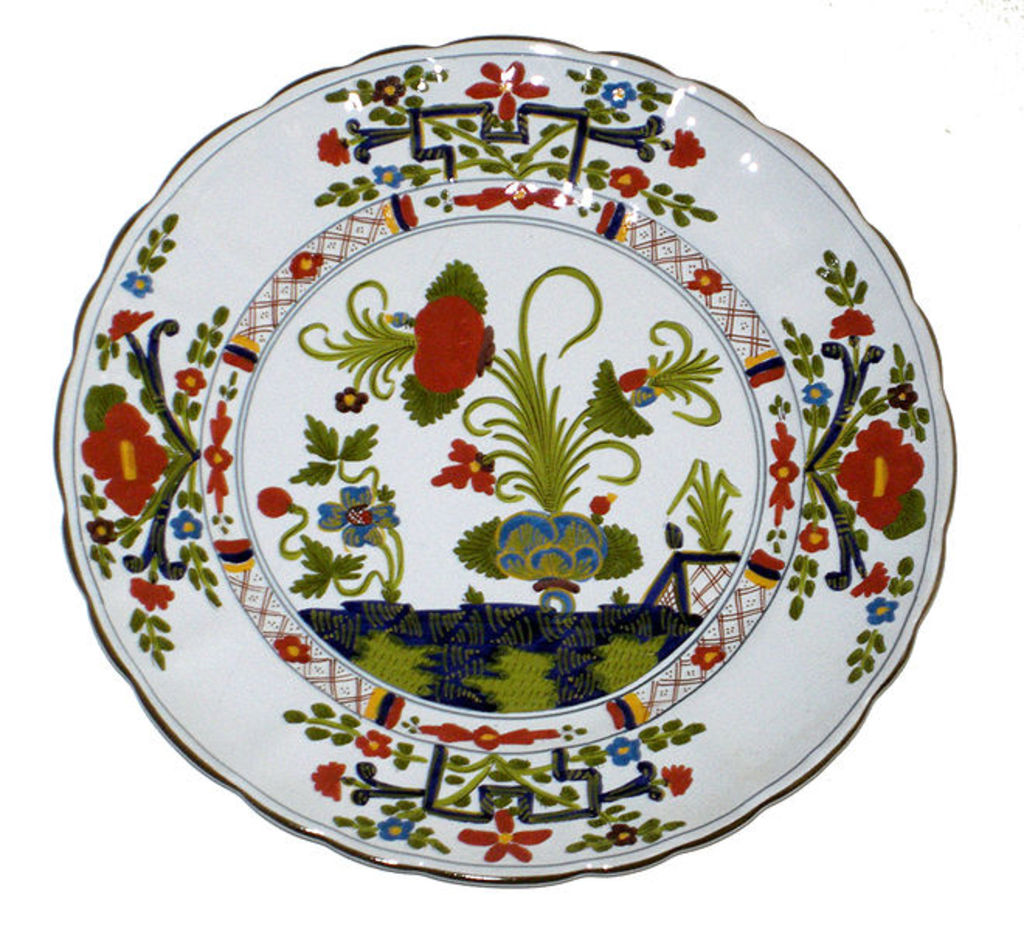plate: (52, 34, 957, 890)
